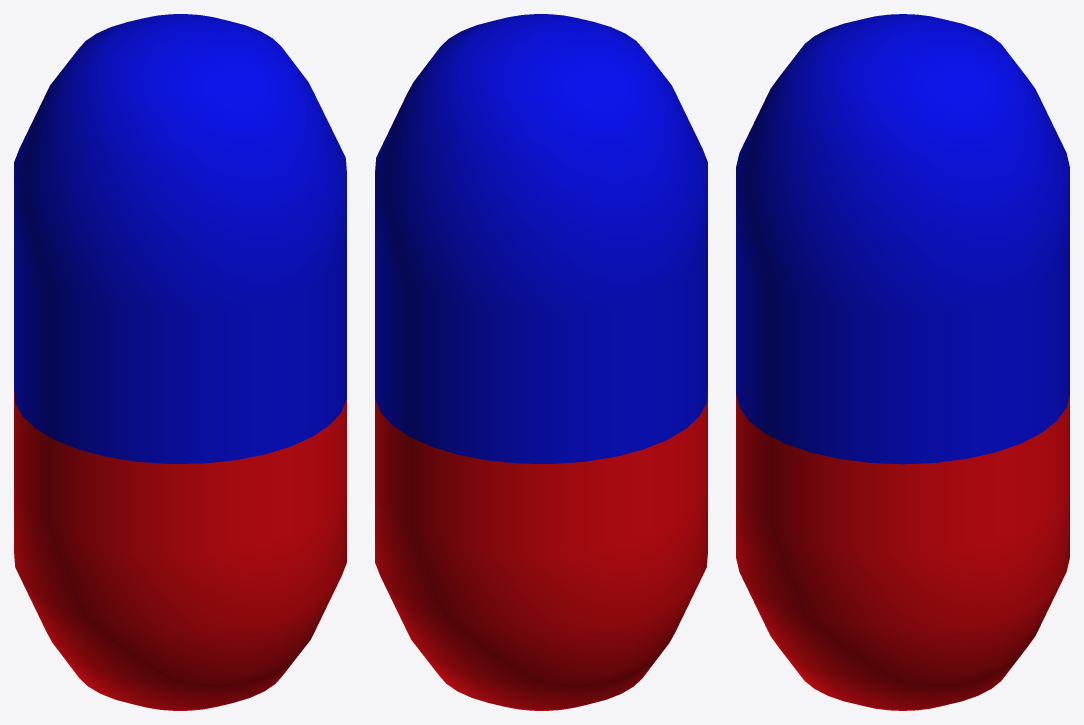
File: pildora.fbx
The picture shows the model from 3 angles, left to right: view 1: azimuth 30°, elevation 25°; view 2: azimuth 150°, elevation 25°; view 3: azimuth 270°, elevation 25°; orthographic projection.
Parts seen in each view (by area): view 1: Sphere; view 2: Sphere; view 3: Sphere.
Boxes of the visible parts, x1,y1,x2,y2 form: Sphere: (14,14,346,710); Sphere: (375,14,707,710); Sphere: (736,14,1069,710).
Bounding box in the file's own units: 0.3657 × 0.8003 × 0.3657.
